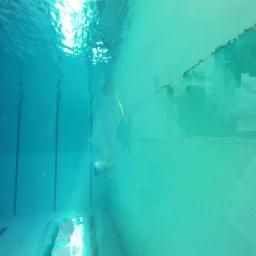Full: (94, 161, 116, 174)
